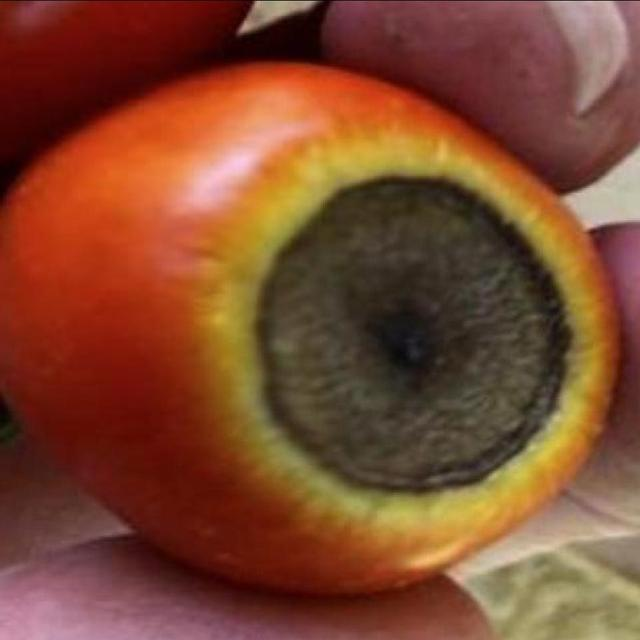Blossom End Rot Fruit: (120, 83, 406, 348)
